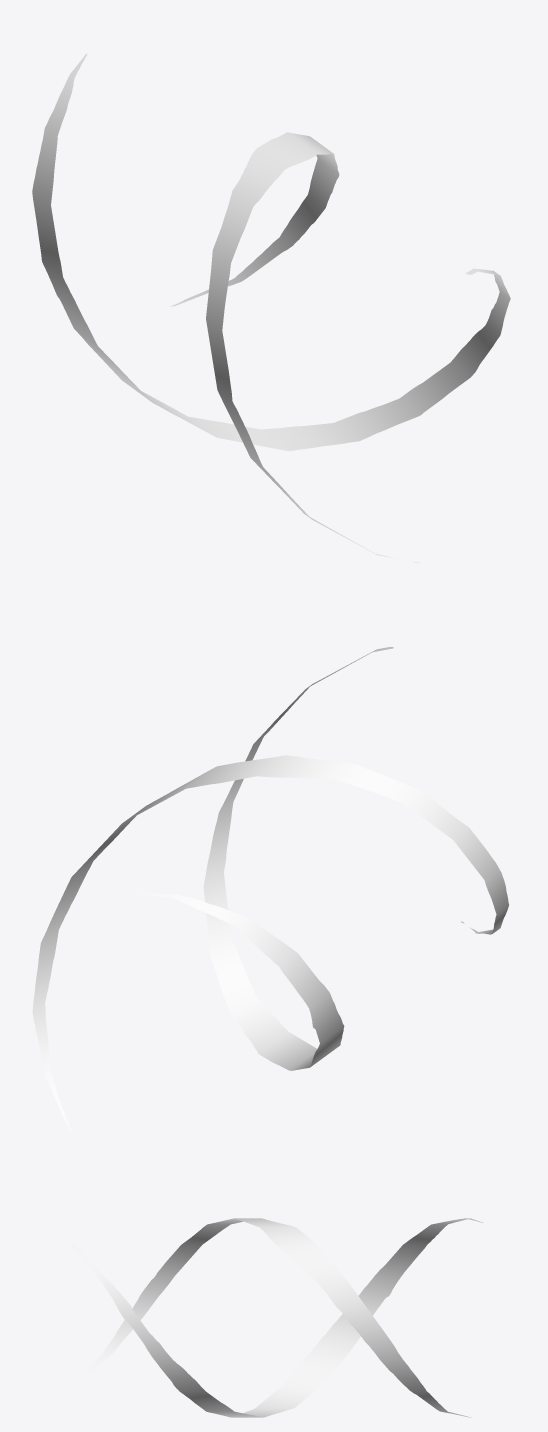
File: Fun_Effect_Material_1.fbx
3 views of the same model, one above another, from view 1: azimuth 30°, elevation 25°; view 2: azimuth 150°, elevation 25°; view 3: azimuth 270°, elevation 25° (orthographic). The views are drawn at different scales.
Visible parts, largest first — view 1: pHelix3; view 2: pHelix3; view 3: pHelix3.
Part boxes in pixels (x1,y1,x2,y2): pHelix3: (32,53,510,563); pHelix3: (32,647,508,1132); pHelix3: (58,1218,483,1417).
Bounding box in the file's own units: 18 × 18 × 46.93.
Materials: 1 (1 with a texture image).
